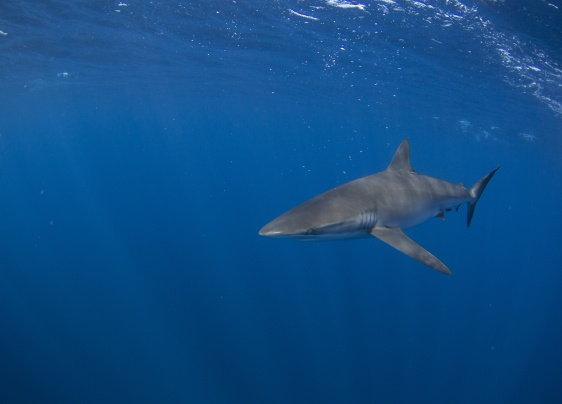Sedoso: (253, 132, 508, 277)
